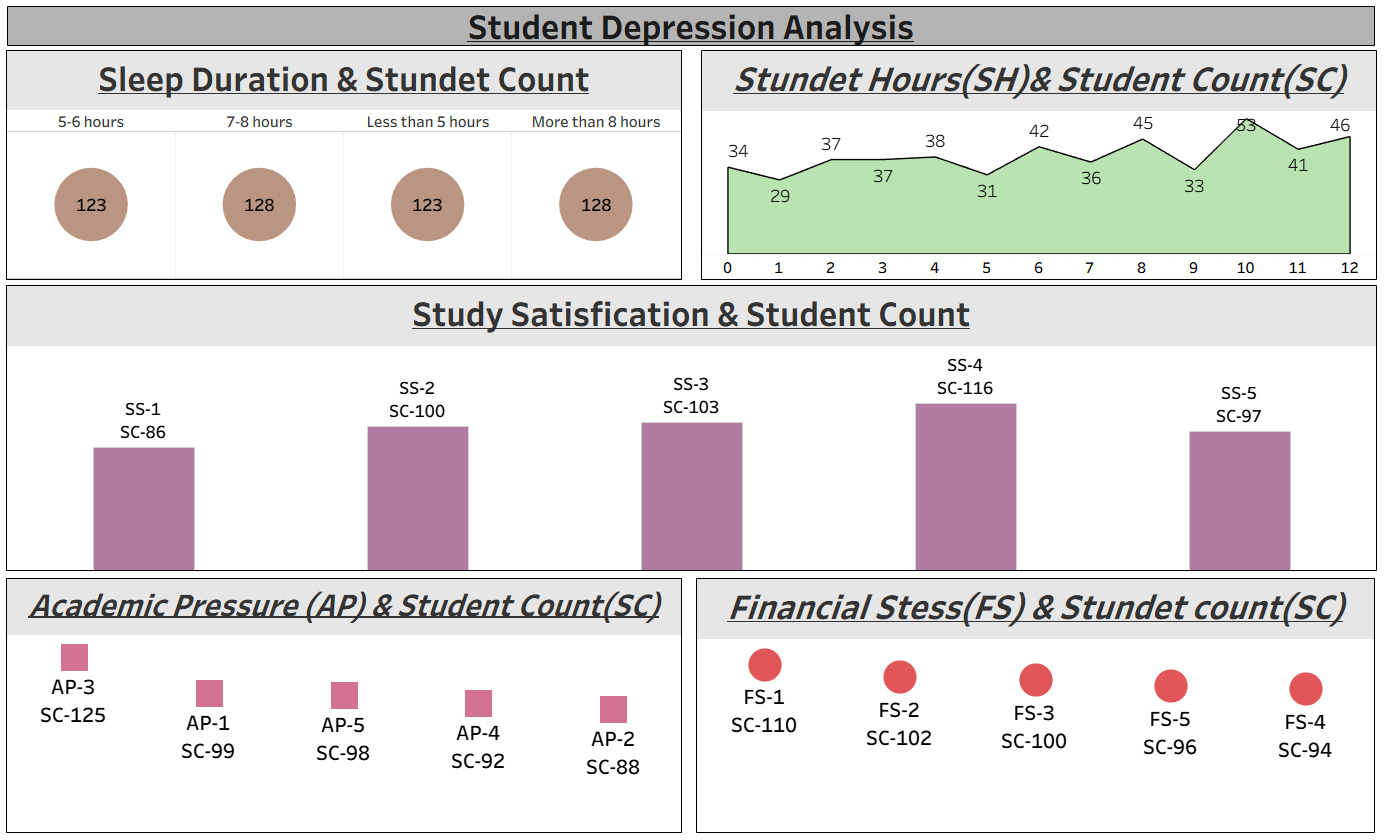

This screenshot's page, from the dashboard's own definition file:
{"tool":"tableau","page":{"name":"Student Depression Analysis","canvas":[1000,1000],"units":"permille","ordinal":0},"visuals":[{"type":"text","box":[9.1,16.4,825.6,47]},{"type":"worksheet","title":"SD&SC","mark":"Pie","cols":["Sleep_Duration"],"box":[8.4,68.2,408,270.3]},{"type":"worksheet","title":"SH&SC","mark":"Area","rows":["Index_column"],"cols":["Study_Hours"],"box":[427.9,68.2,408,270.3]},{"type":"worksheet","title":"SS&SC","mark":"Automatic","rows":["Index_column"],"cols":["Study_Satisfaction"],"box":[8.4,344.3,827.4,336.1]},{"type":"worksheet","title":"AP&SC","mark":"Square","rows":["Index_column"],"cols":["Academic_Pressure"],"box":[8.4,689,408,300]},{"type":"worksheet","title":"FS&SC","mark":"Circle","rows":["Index_column"],"cols":["Financial_Stress"],"box":[424.9,689,409.8,300]}]}

Visuals, with their boxes on the dashboard's canvas, which has no fixed pixel size, in thousandths of its width and height (x1, y1, x2, y2). These are canvas units, not pixel positions in the 1386x840 screenshot, which may show the page scaled, cropped or inside an application window:
text: Rect(9, 16, 835, 63)
"SD&SC" worksheet (Pie marks): Rect(8, 68, 416, 338)
"SH&SC" worksheet (Area marks): Rect(428, 68, 836, 338)
"SS&SC" worksheet: Rect(8, 344, 836, 680)
"AP&SC" worksheet (Square marks): Rect(8, 689, 416, 989)
"FS&SC" worksheet (Circle marks): Rect(425, 689, 835, 989)
